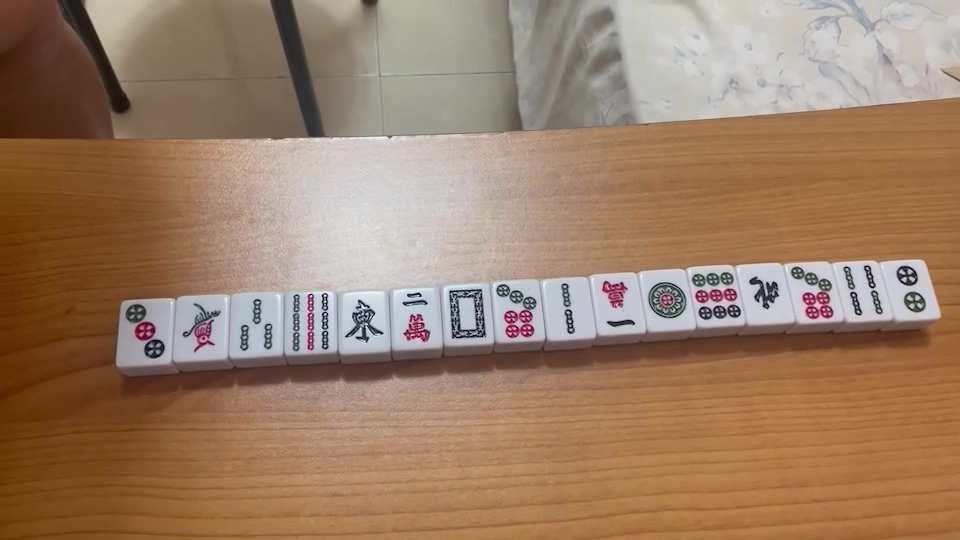b-1: (179, 301, 225, 354)
b-2: (553, 280, 584, 336)
b-3: (235, 296, 273, 355)
b-4: (841, 264, 886, 318)
b-9: (288, 292, 333, 352)
c-1: (602, 279, 635, 333)
c-2: (398, 287, 431, 345)
d-1: (648, 279, 686, 321)
d-2: (893, 262, 930, 318)
d-3: (121, 302, 168, 361)
d-7: (790, 264, 837, 323), (495, 282, 538, 339)
d-9: (692, 272, 743, 325)
honors-east: (346, 300, 384, 347)
honors-north: (748, 272, 784, 316)
honors-white: (448, 286, 487, 342)
